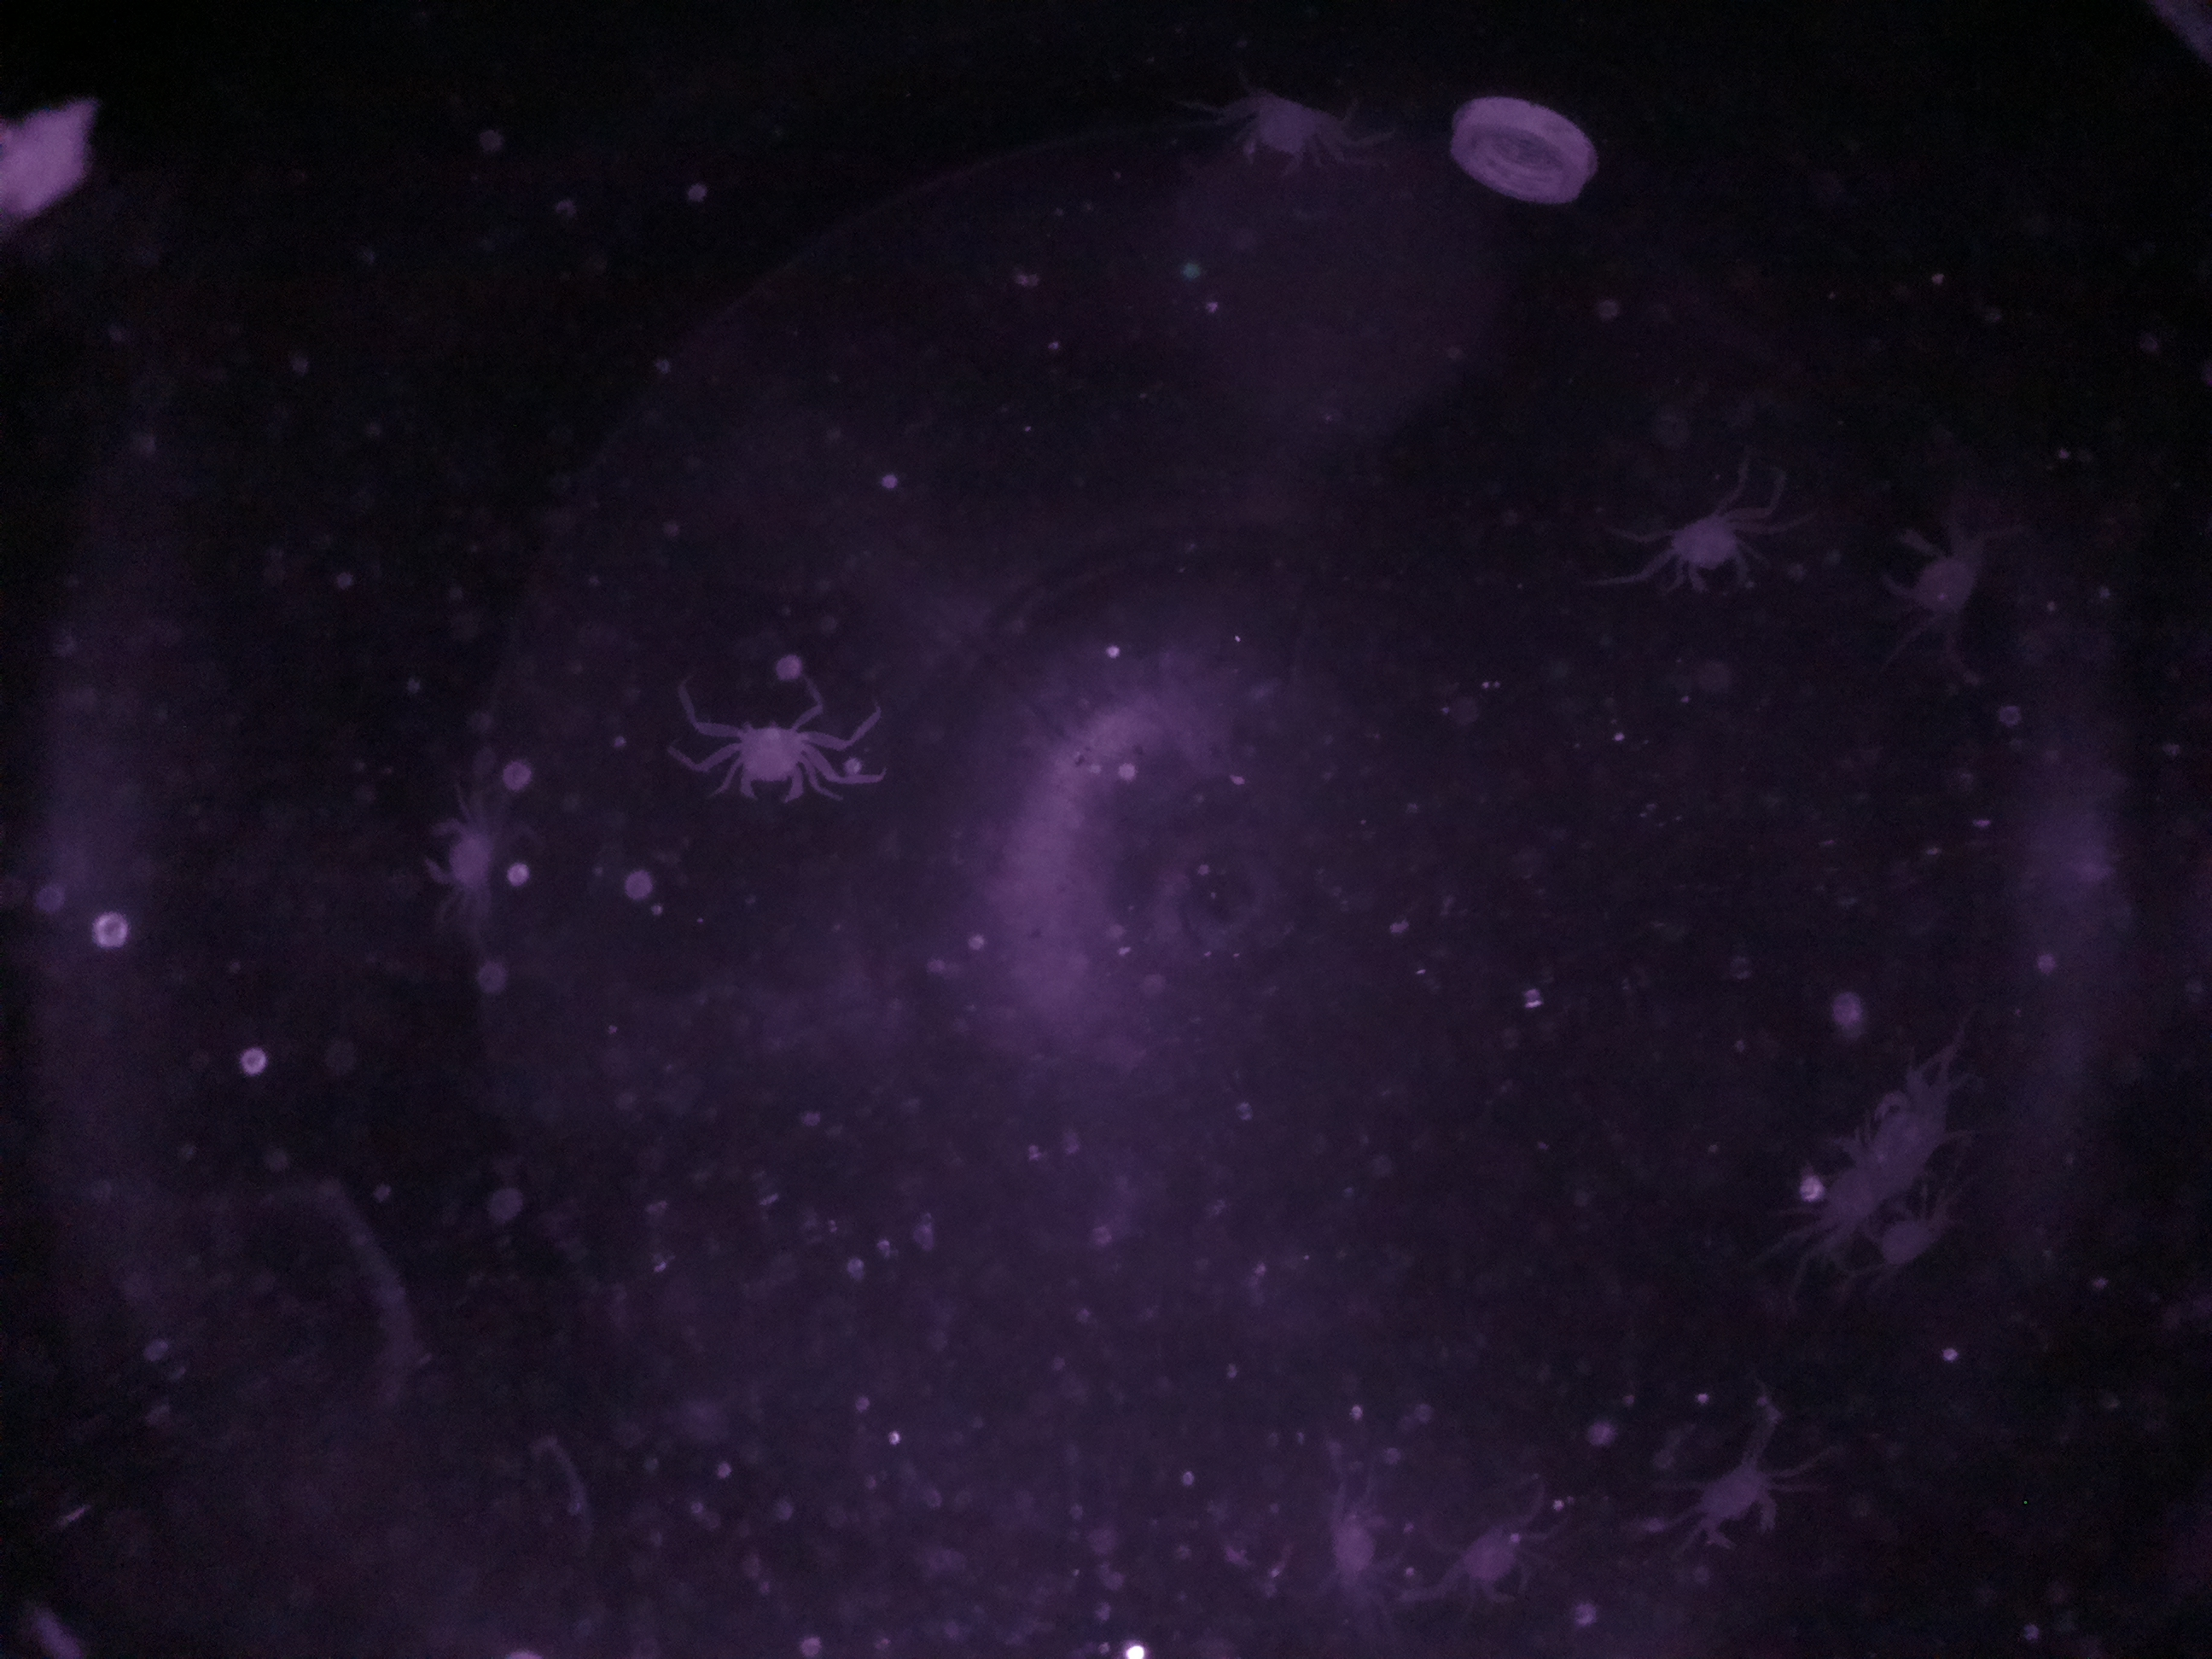Crab: (1869, 514, 1998, 633), (702, 695, 824, 809), (1224, 73, 1338, 190), (1651, 495, 1770, 606), (1677, 1446, 1792, 1558), (404, 802, 519, 903)
